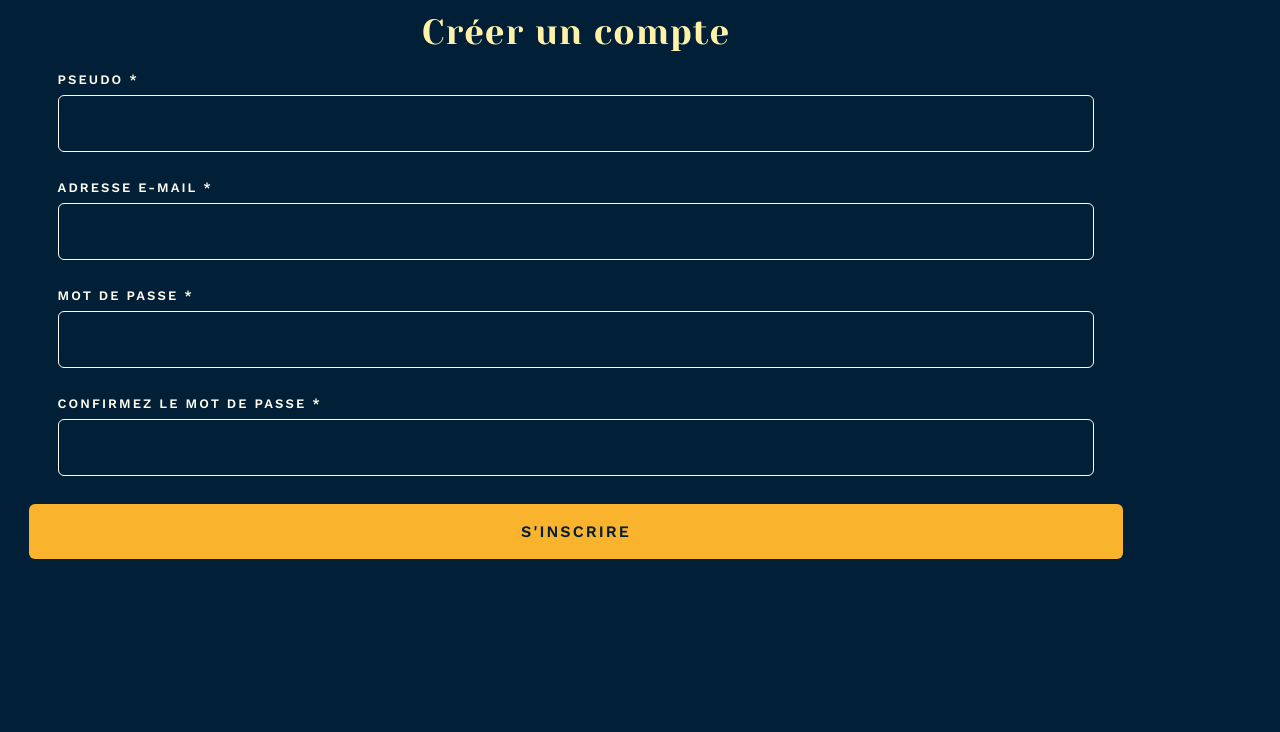
Test: AccountCreation component tests › should return false and set invalid pseudo error
The width and height of the screenshot is (1280, 732).
Step 1. Type "luc" into the field labelled "Pseudo *" → (576, 124), box [58,95,1094,152]
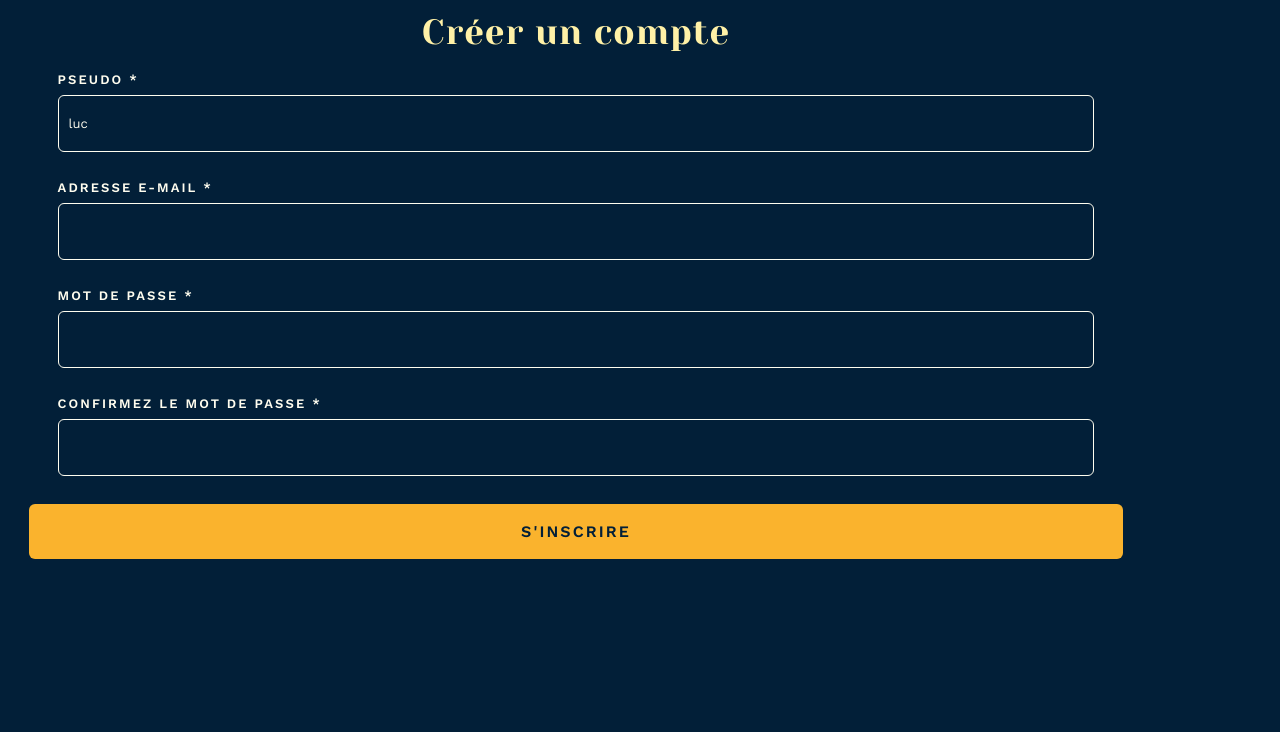
Step 2. Submit the form from the button "S'inscrire", box [29,504,1123,559]
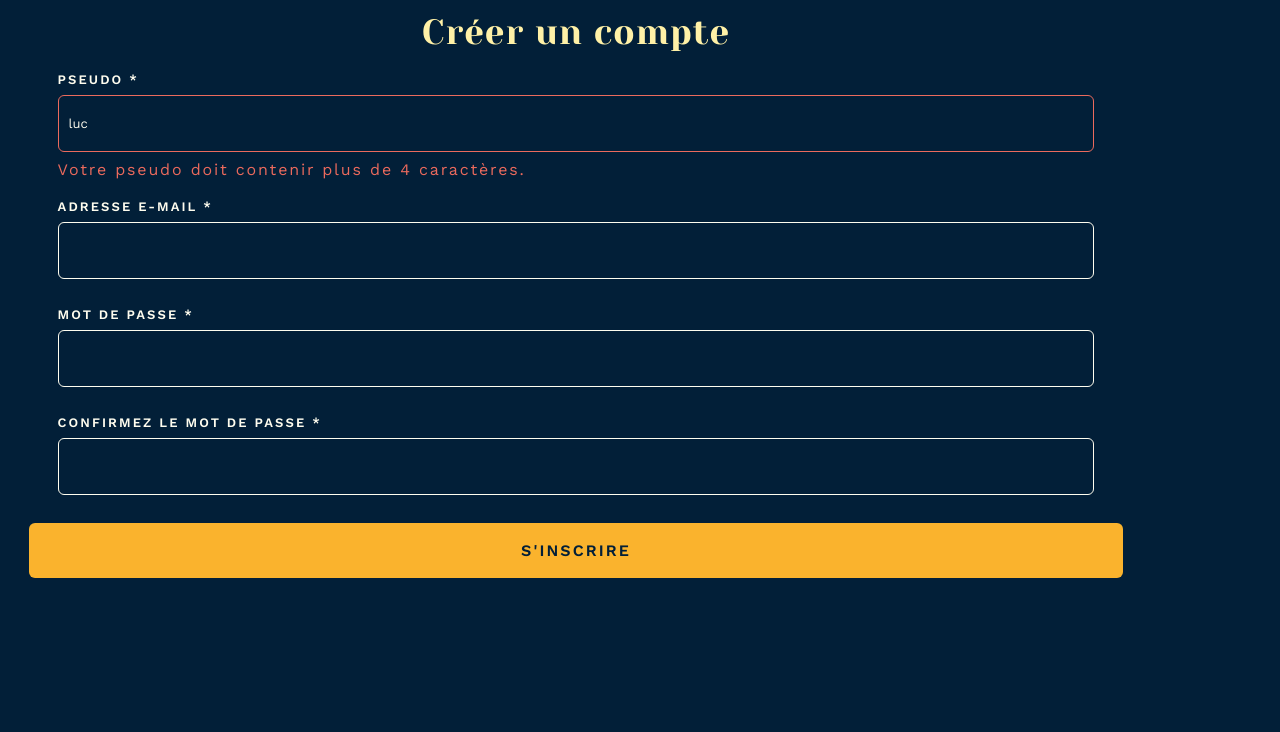
Now the text "Votre pseudo doit contenir plus de 4 caractères." is shown, box [58,160,526,179]
